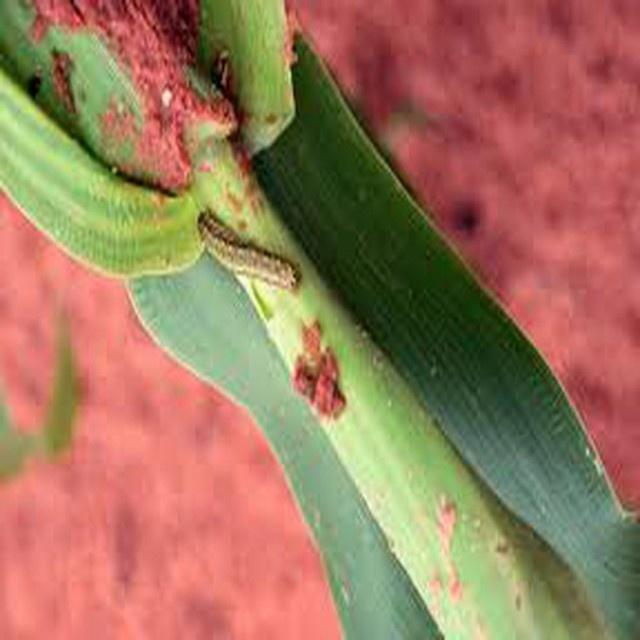Plaga: (202, 218, 303, 288)
